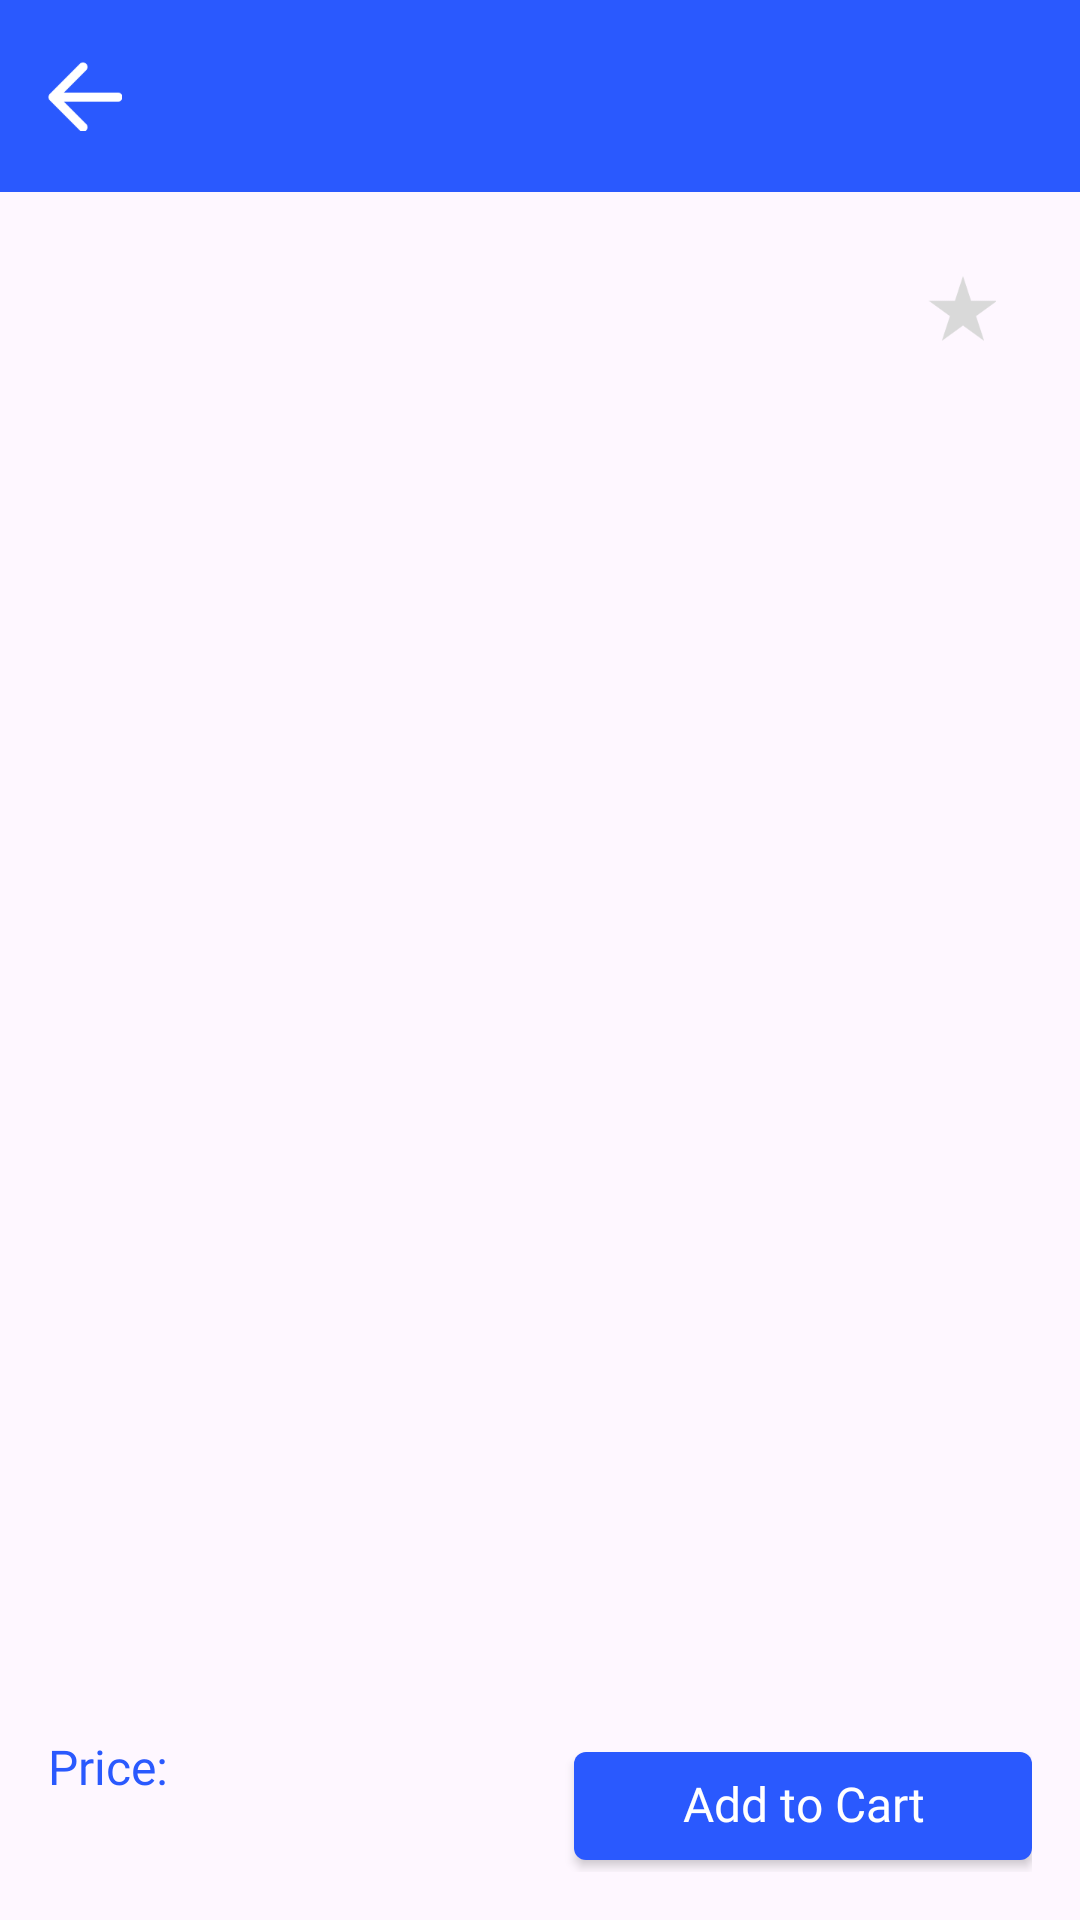

Point at icon controls on the screen. Image size 1080 × 1920, points as point (x, y).
unsaved: point (963, 308)
